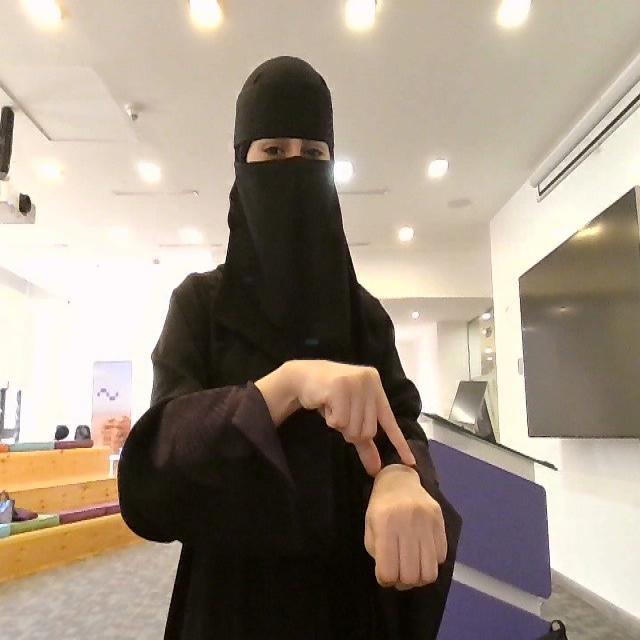appointment: (281, 354, 450, 592)
